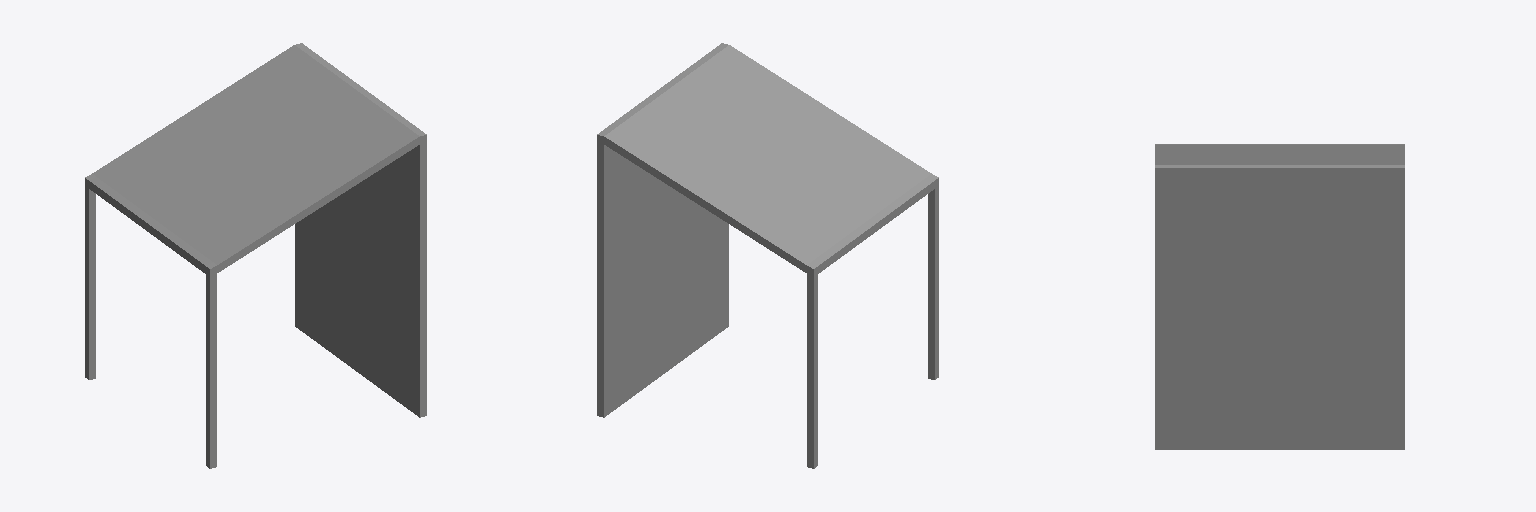
File: salle_cote.obj
3 renders of one model, left to right at view 1: azimuth 30°, elevation 25°; view 2: azimuth 150°, elevation 25°; view 3: azimuth 270°, elevation 25°, orthographic.
Visible parts, largest first — view 1: Cube; view 2: Cube; view 3: Cube.
Boxes of the visible parts, box(x1,y1,x2,y2) form: Cube: box(85, 43, 426, 468); Cube: box(597, 43, 938, 468); Cube: box(1155, 144, 1404, 449).
Bounding box in the file's own units: 2 × 2.48 × 2.